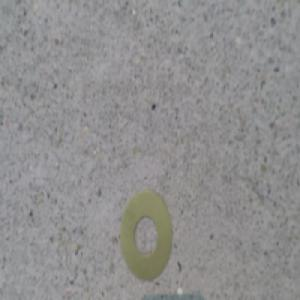Washer: (120, 189, 173, 281)
